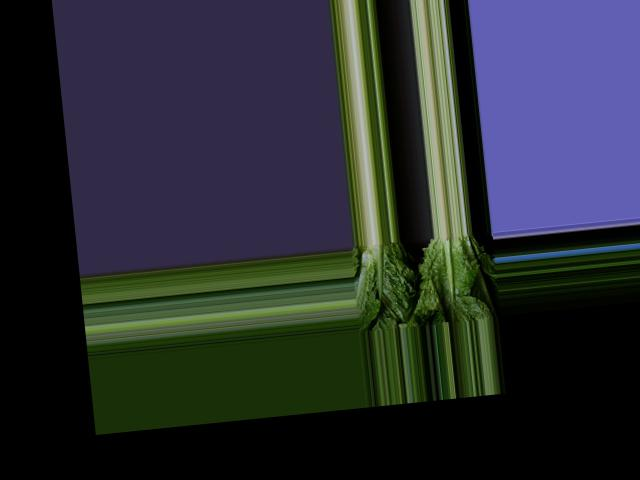lettuce: (354, 239, 418, 327)
